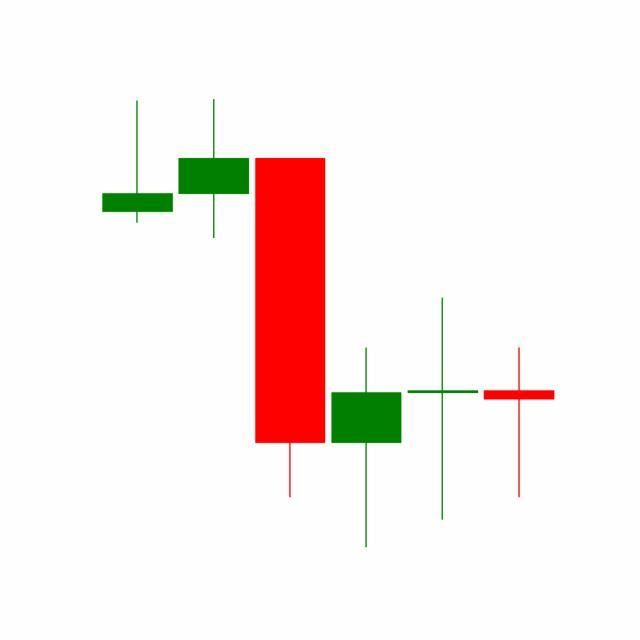Spinning Top: (404, 296, 482, 524)
